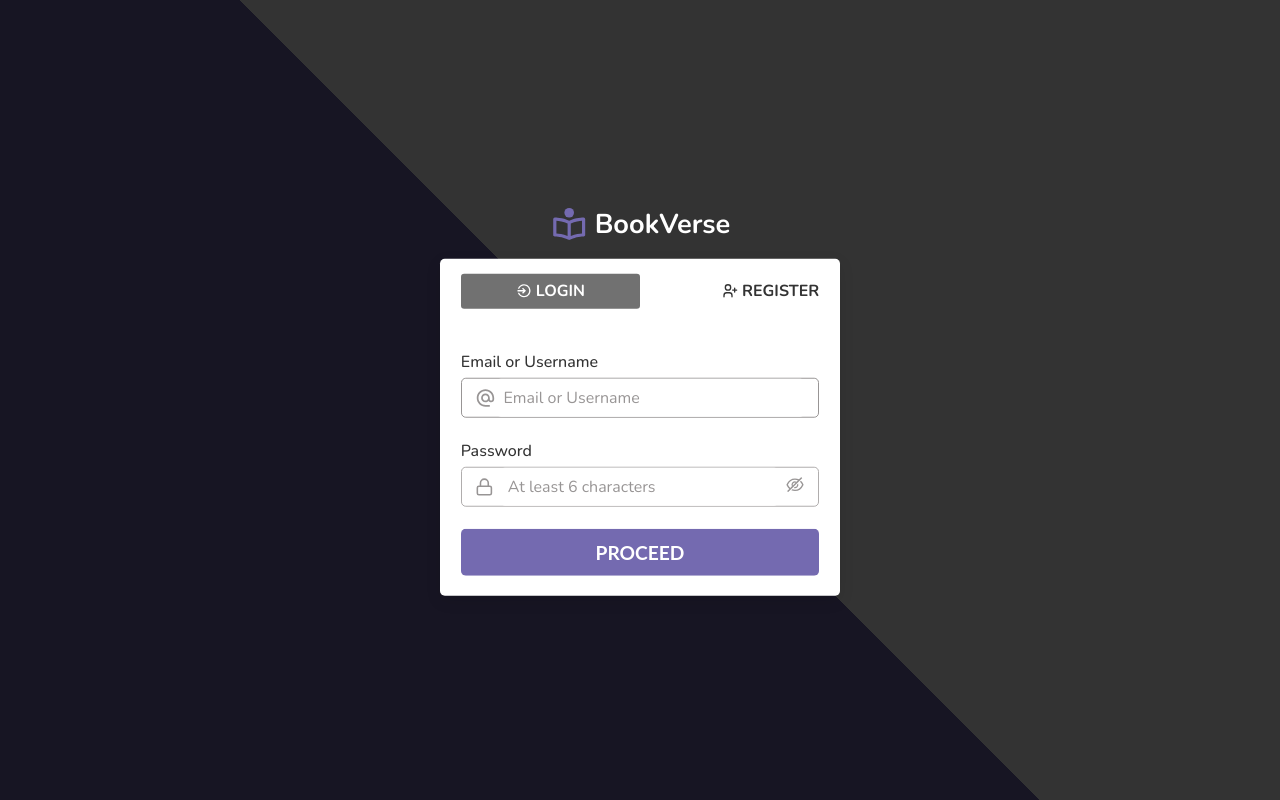
Test: shows username field only when in register state
Step 1. Click the text "Register" → click(771, 291), box [722,280,819,302]
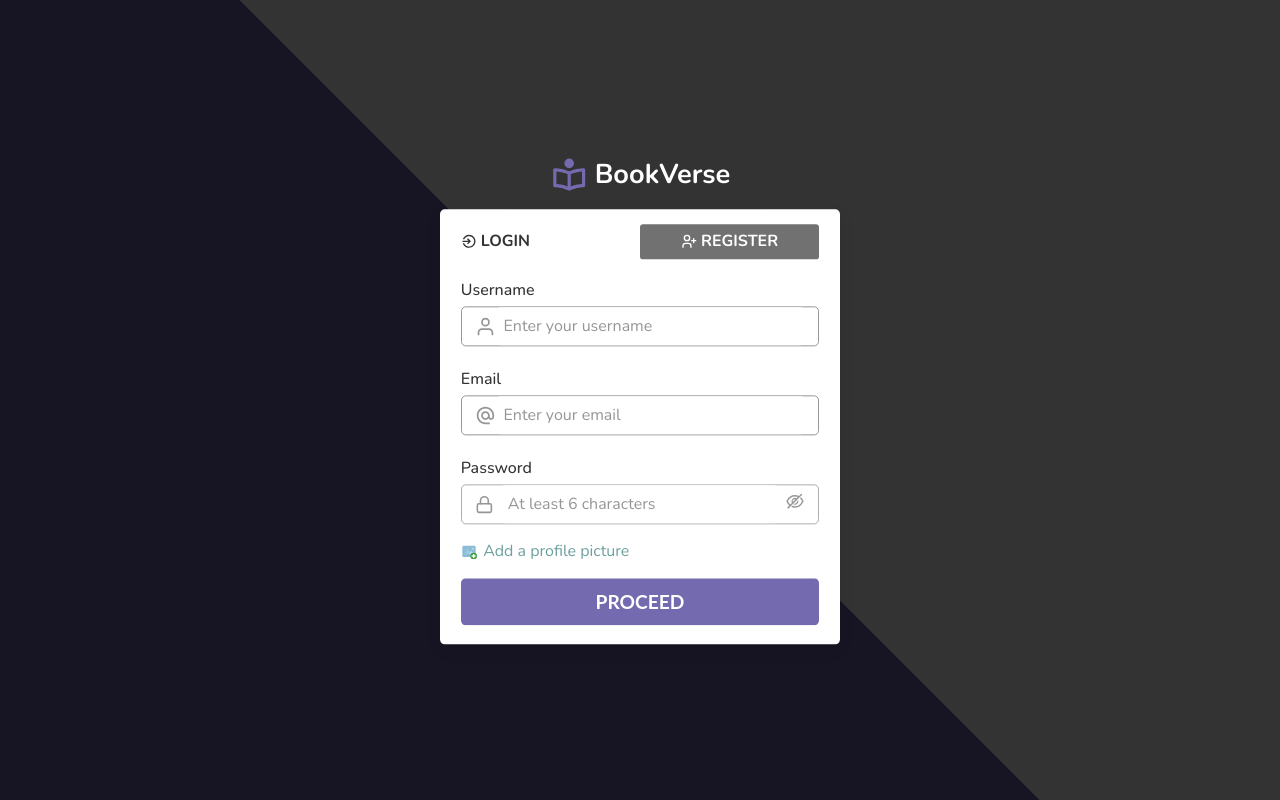
Now the field with placeholder "Enter your username" is shown, box [496,308,805,346]
